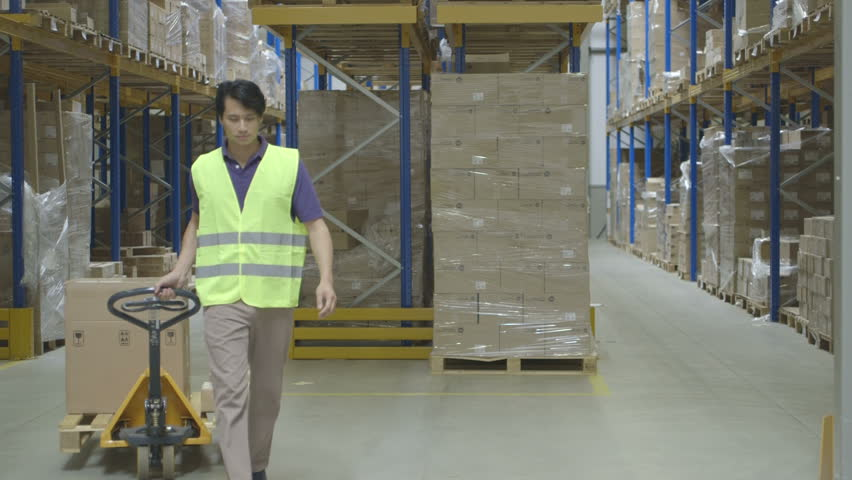noepi: (161, 74, 340, 480)
